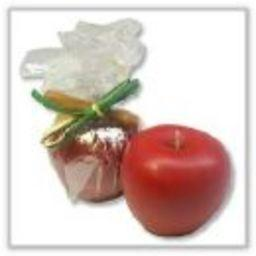apple: (121, 124, 234, 236)
